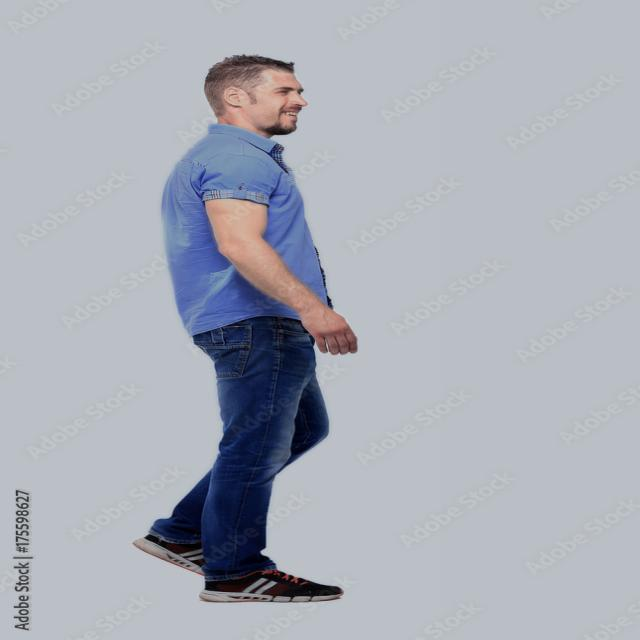Person: (134, 53, 360, 603)
